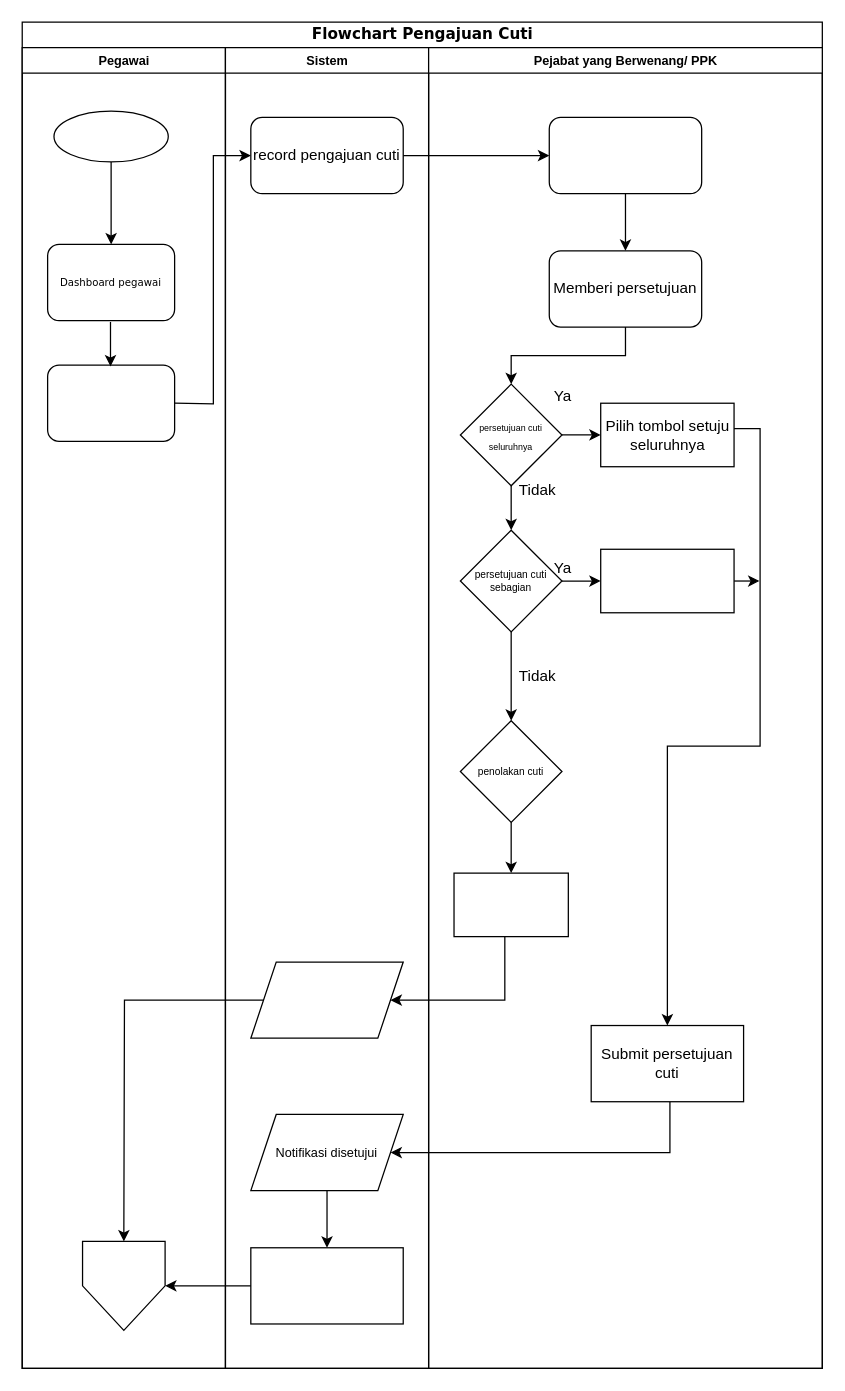
This 845x1391 diagram has some shape labels left out. Each missing label, with the centre of its shape:
"Dashboard pejabat berwenang" goes at (x=625, y=155).
"Input jenis pengajuan cuti dan lama cuti" goes at (x=110, y=402).
"Notifikasi ditolak" goes at (x=326, y=999).
"Pilih tombol setuju sebagian dan masukkan tanggal persetujuan" goes at (x=666, y=580).
"Pilih tombol tolak dan memberikan alasan" goes at (x=510, y=904).
"Record Persetujuan cuti" goes at (x=326, y=1285).
